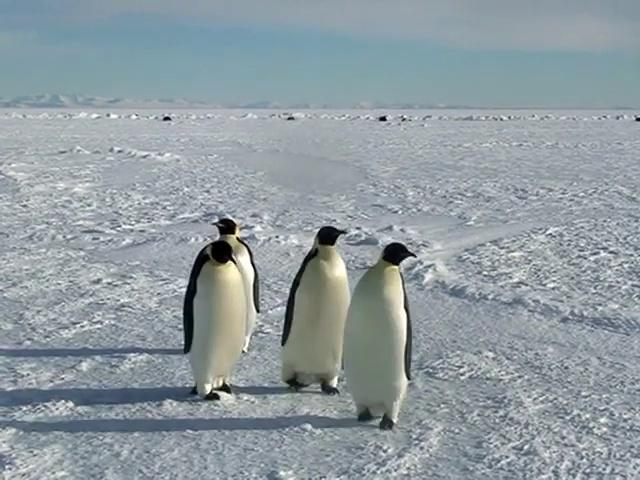animal: (344, 242, 416, 429)
